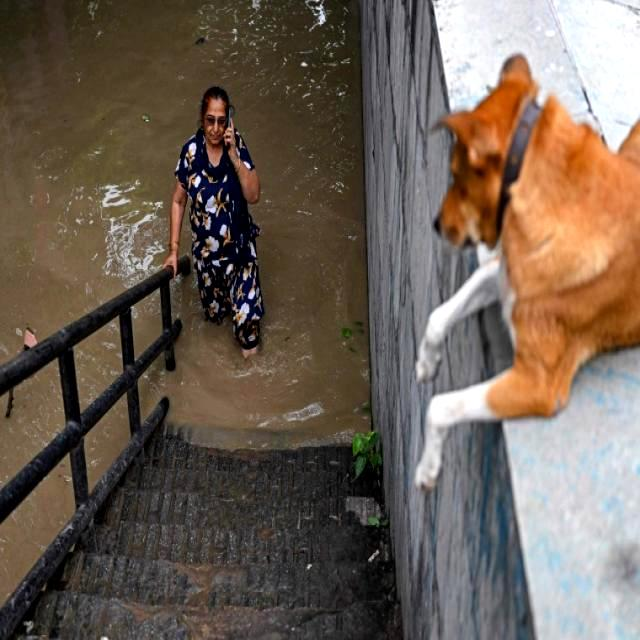civilian: (165, 85, 282, 364)
dog: (380, 45, 640, 496)
